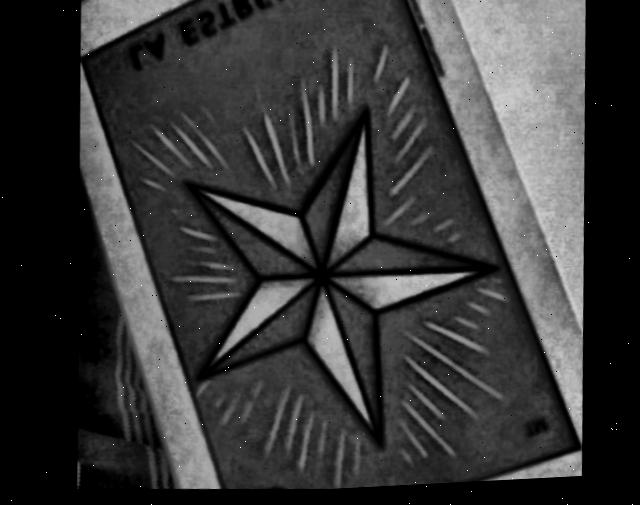La Estrella: (81, 0, 578, 492)
